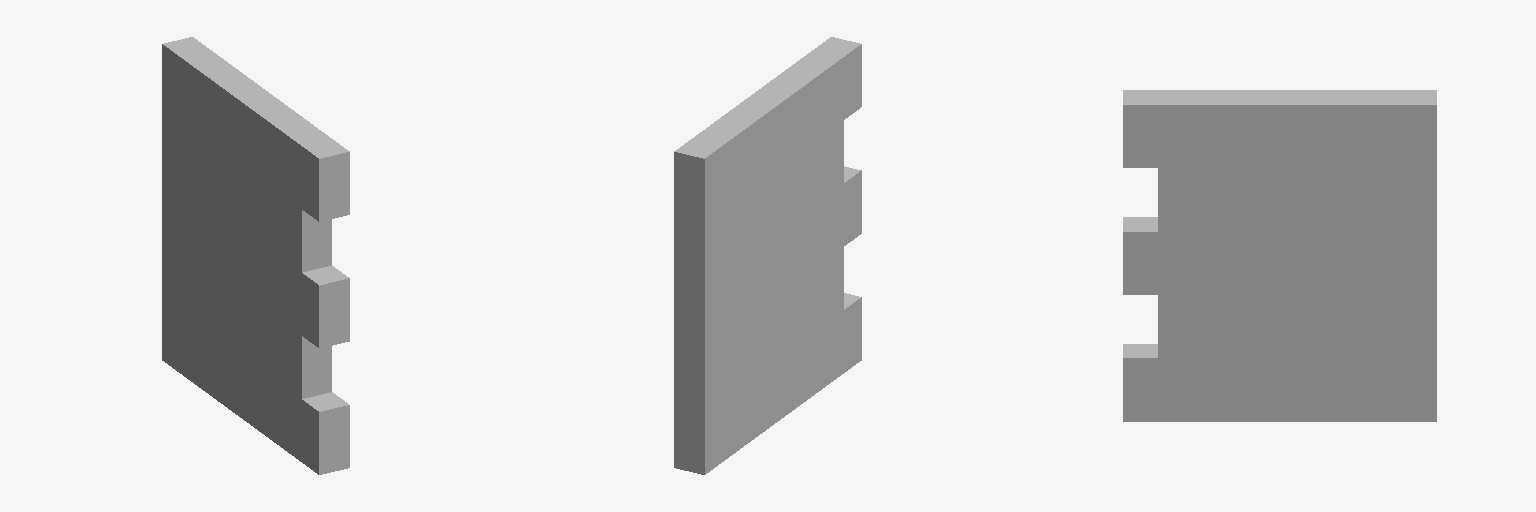
Rendered from WallBack.obj.
The picture shows the model from 3 angles: view 1: azimuth 30°, elevation 25°; view 2: azimuth 150°, elevation 25°; view 3: azimuth 270°, elevation 25°; orthographic projection.
Parts seen in each view (by area): view 1: Body1; view 2: Body1; view 3: Body1.
Part boxes in pixels (bbox=[...]): Body1: bbox=[162, 37, 349, 474]; Body1: bbox=[674, 37, 861, 474]; Body1: bbox=[1123, 90, 1436, 421].
Bounding box in the file's own units: 25 × 250 × 225.